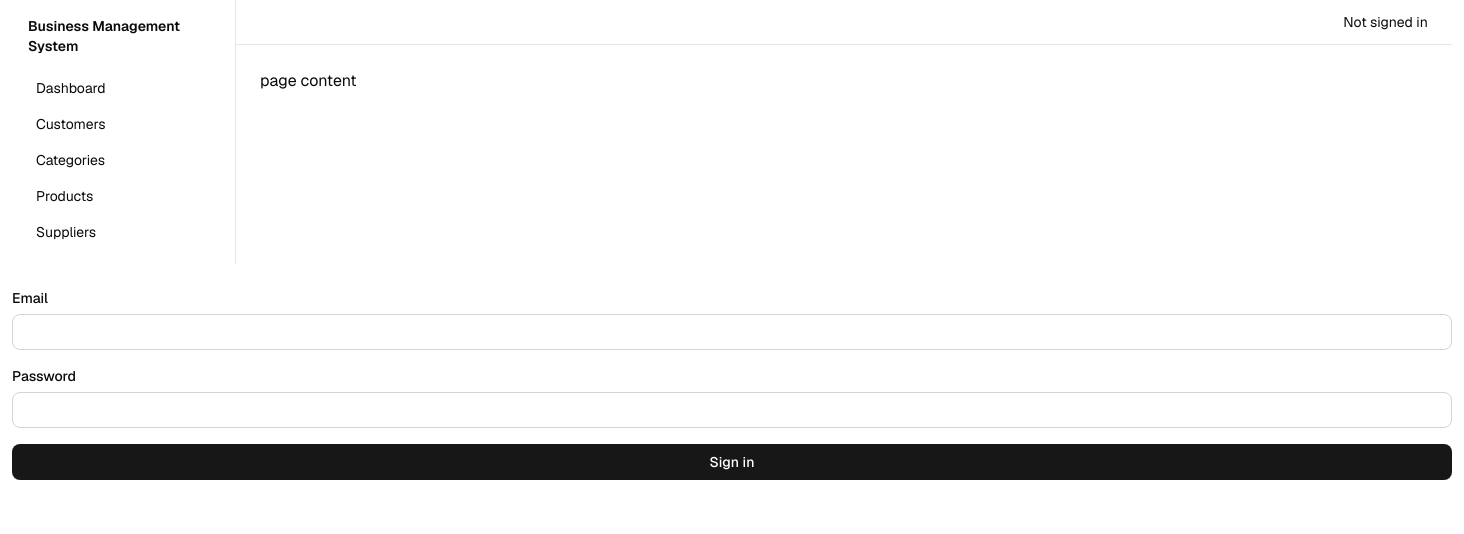
Test: dashboard shell › a successful login makes the shell read the fresh /auth/me
expect the text "Not signed in" is shown: met, box top-left (1343, 12), bottom-right (1428, 32)
Type "admin@bms.local" into the field labelled "Email" at (732, 332), box top-left (12, 314), bottom-right (1452, 350)
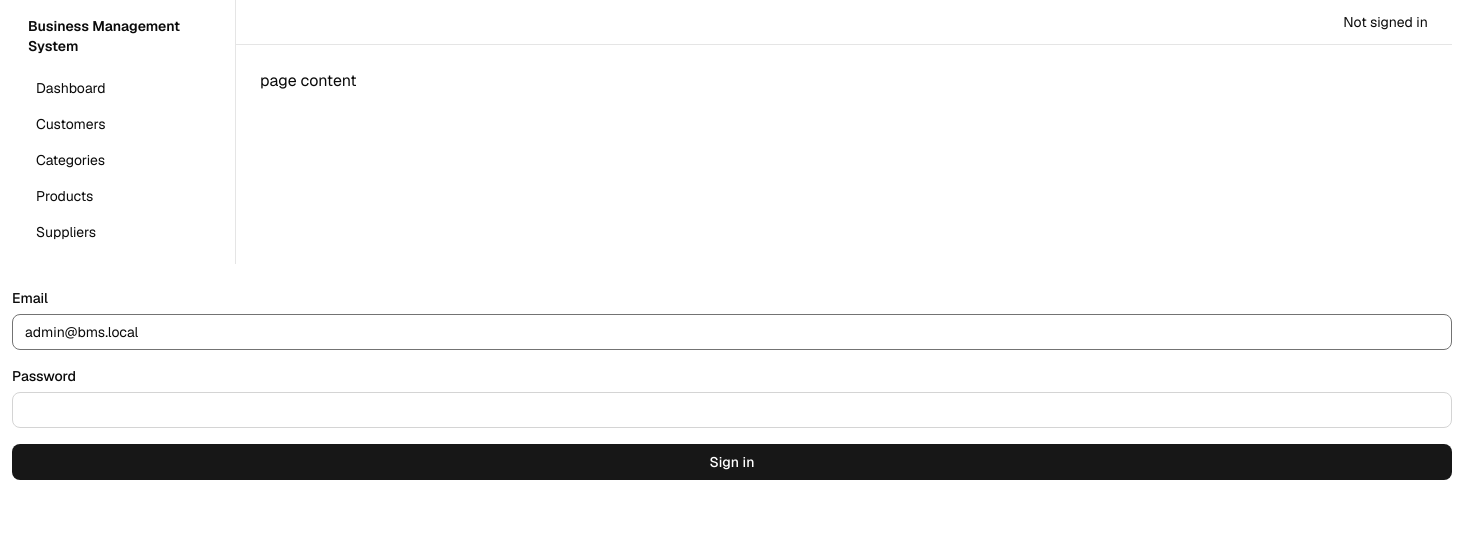
Type "admin123" into the password field labelled "Password" at (732, 410), box top-left (12, 392), bottom-right (1452, 428)
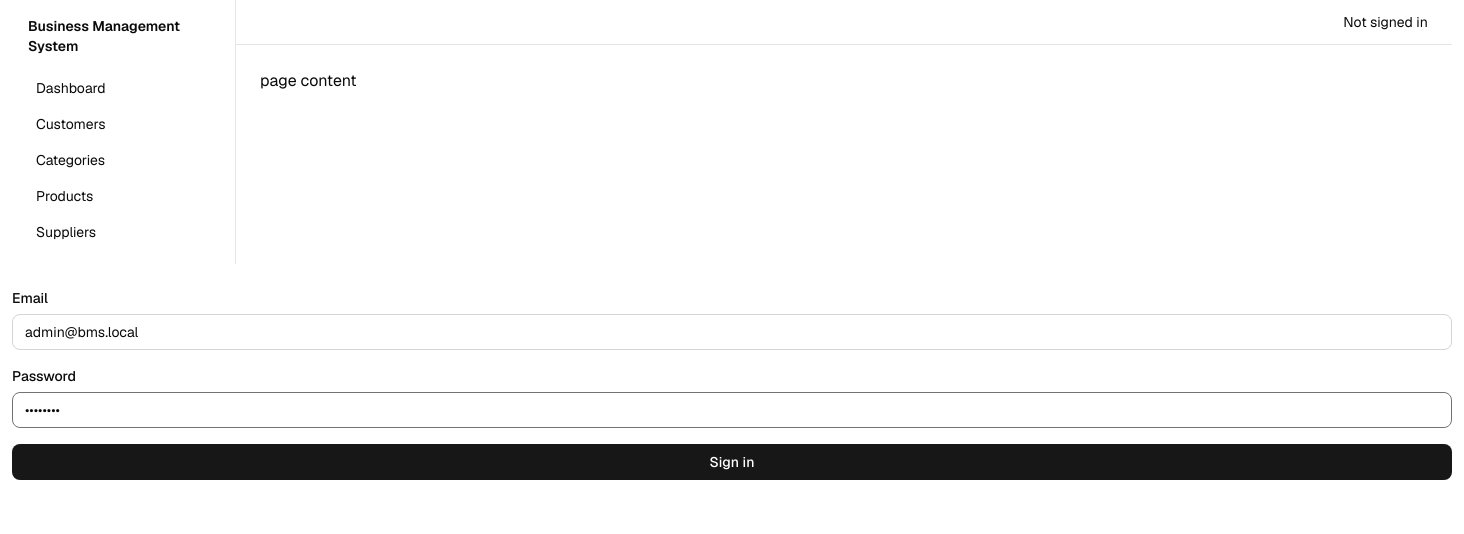
Click the button "Sign in" at (732, 462), box top-left (12, 444), bottom-right (1452, 480)
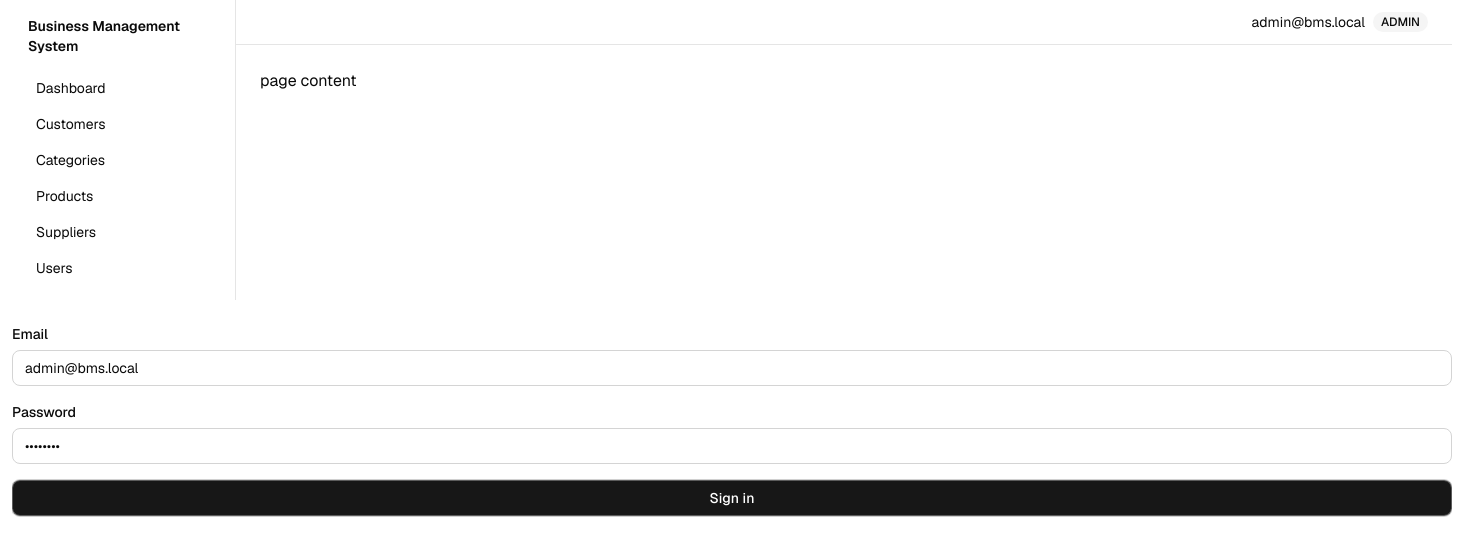
expect the text "admin@bms.local" is shown: met, box top-left (1252, 12), bottom-right (1365, 32)
